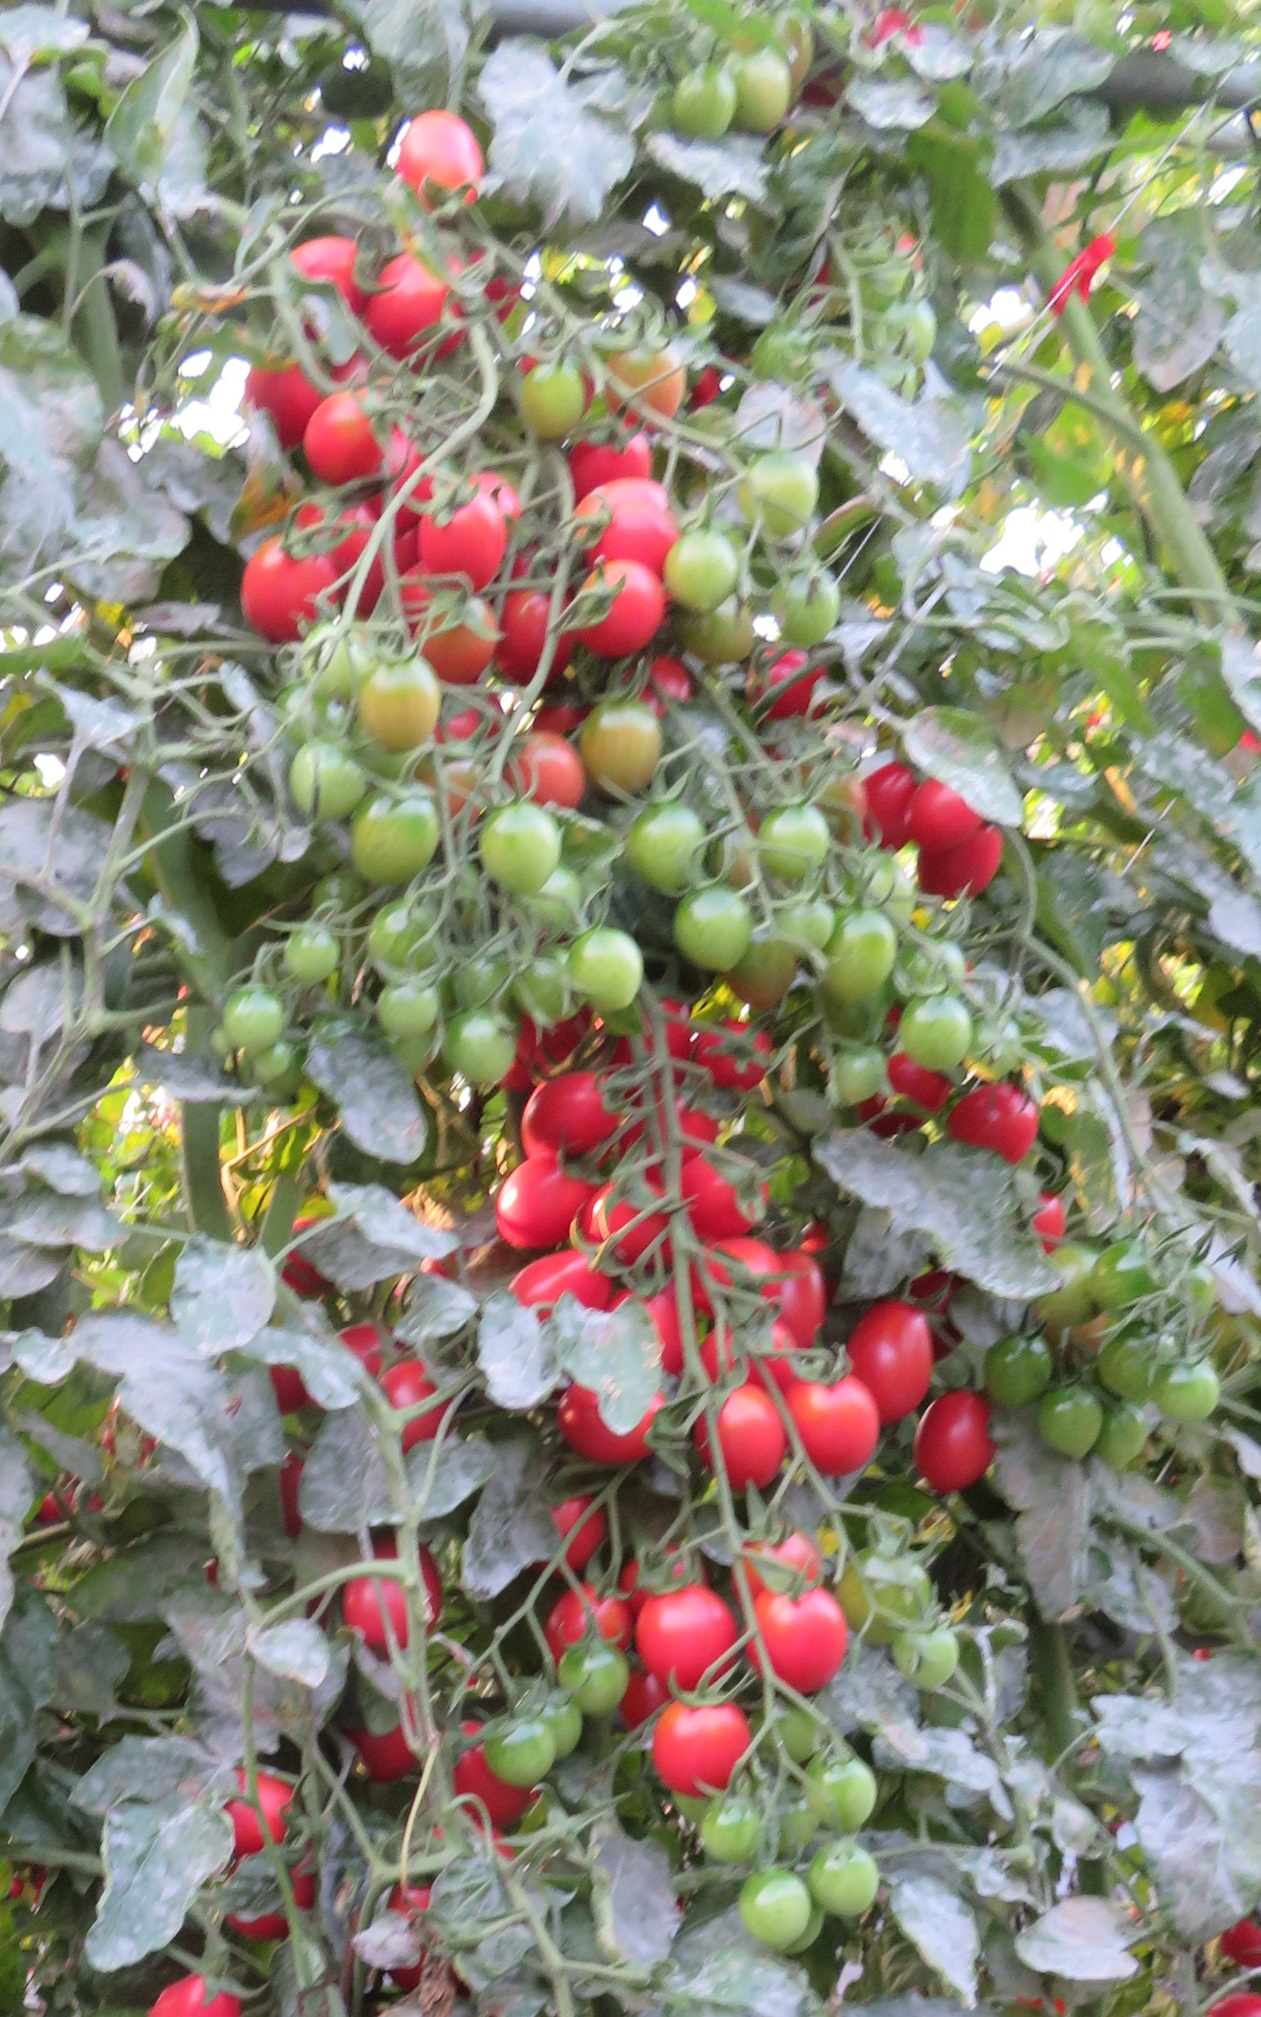green: (341, 797, 455, 879), (359, 649, 446, 743), (466, 797, 561, 881), (738, 447, 819, 537), (774, 562, 859, 648), (506, 356, 588, 443), (738, 36, 800, 150), (821, 908, 893, 1003), (291, 730, 365, 823), (671, 57, 737, 160), (737, 1886, 840, 1952), (583, 712, 676, 783), (755, 816, 848, 881), (673, 895, 748, 974), (901, 990, 965, 1085), (806, 1859, 892, 1926), (578, 922, 641, 1014), (623, 816, 715, 879), (657, 534, 728, 614), (1098, 1410, 1175, 1481), (447, 1006, 508, 1093), (803, 1761, 883, 1824), (561, 1650, 632, 1719), (869, 299, 938, 370), (1036, 1390, 1098, 1468), (707, 1814, 798, 1867), (978, 1345, 1047, 1411), (861, 1544, 936, 1606), (216, 990, 280, 1062), (1161, 1348, 1228, 1410), (474, 1724, 551, 1776), (905, 1621, 973, 1679), (375, 983, 436, 1046), (517, 1682, 583, 1735), (282, 922, 338, 983)
orange: (601, 338, 681, 436)
red: (240, 524, 369, 637), (369, 251, 478, 356), (758, 1576, 863, 1683), (850, 1295, 930, 1427), (341, 1547, 442, 1645), (911, 1401, 1005, 1503), (561, 576, 678, 658), (384, 115, 494, 199), (415, 486, 510, 581), (498, 1146, 588, 1244), (681, 1147, 780, 1237), (644, 1599, 744, 1687), (301, 389, 382, 494), (713, 1378, 790, 1483), (689, 1237, 782, 1319), (583, 472, 671, 556), (811, 1377, 891, 1468), (248, 356, 328, 444), (641, 1712, 744, 1780), (288, 237, 373, 318), (540, 1076, 641, 1141), (968, 1089, 1040, 1176), (382, 1358, 450, 1449), (228, 1774, 296, 1856), (893, 791, 969, 858), (936, 828, 1005, 897), (508, 1263, 591, 1321), (1050, 1194, 1082, 1250)
